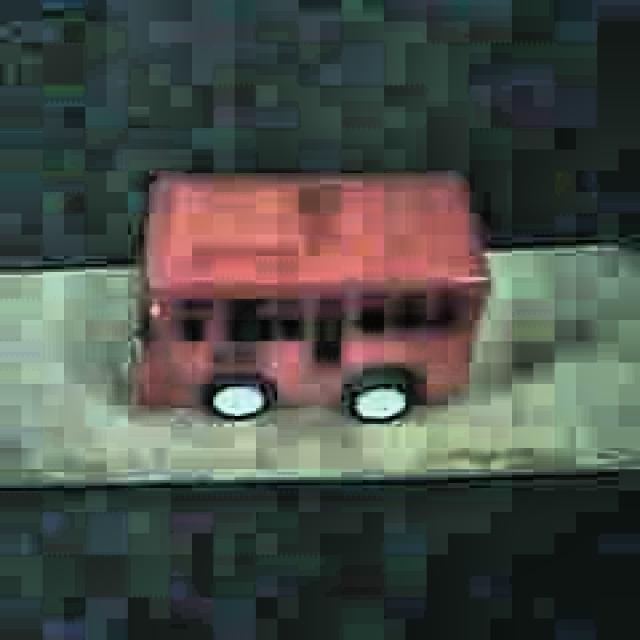bus: (128, 170, 490, 426)
